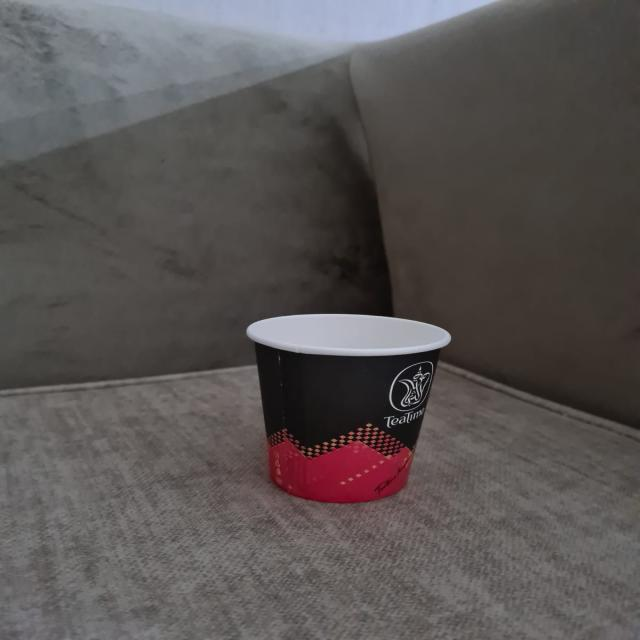cups: (247, 310, 454, 504)
